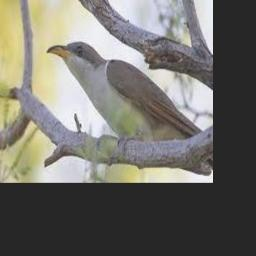Cuckoo: (47, 41, 205, 142)
